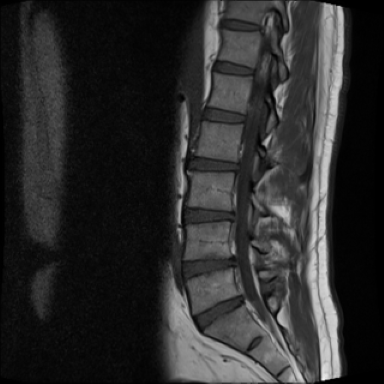Lumbar Disc Bulge (LDB): (186, 281, 238, 323), (171, 236, 226, 270)
Normal IVD: (178, 131, 232, 155), (169, 184, 225, 207), (193, 85, 244, 108), (208, 39, 254, 60), (221, 4, 266, 18)
Spinal Stenosis (SS): (213, 237, 228, 260), (224, 278, 235, 297)
